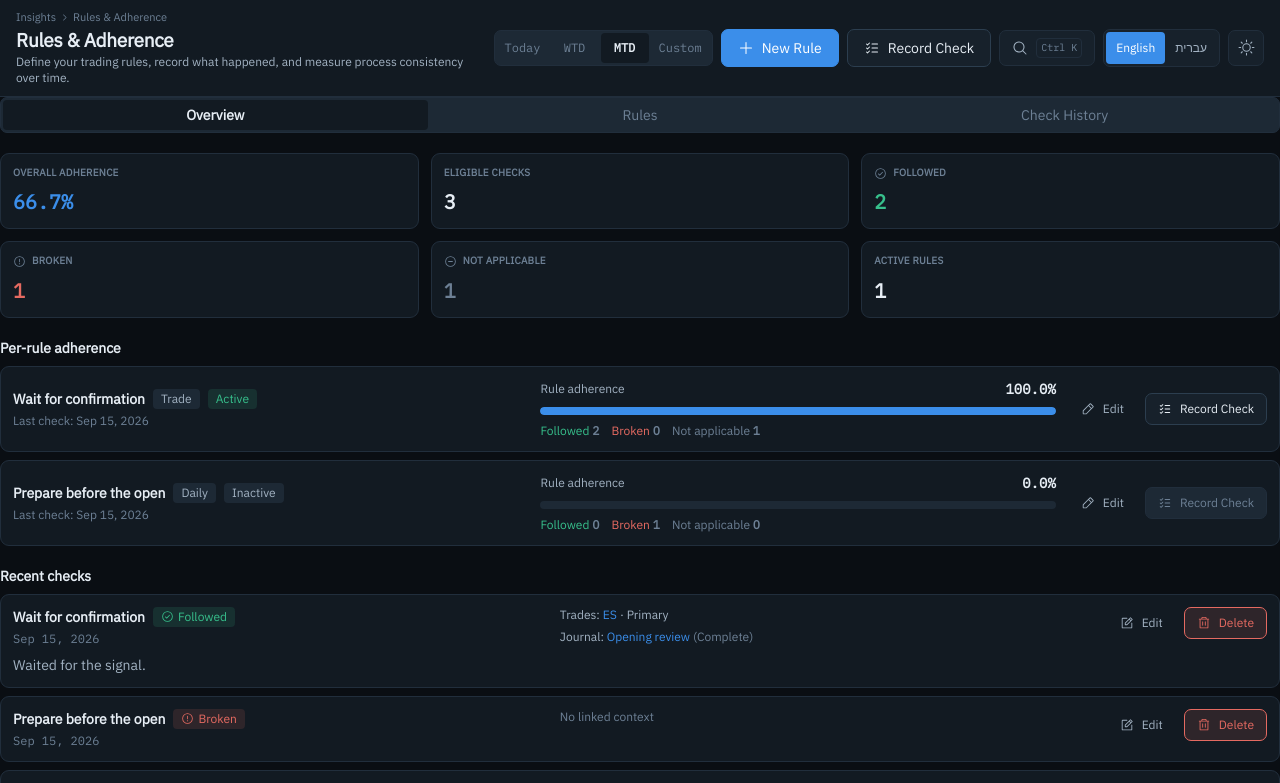
Test: Rules & Adherence page › records followed, broken, or not-applicable via accessible radios with real context IDs
The width and height of the screenshot is (1280, 783).
Step 1. Click the 1st button "Record Check" → [919, 48], box top-left (847, 29), bottom-right (991, 67)
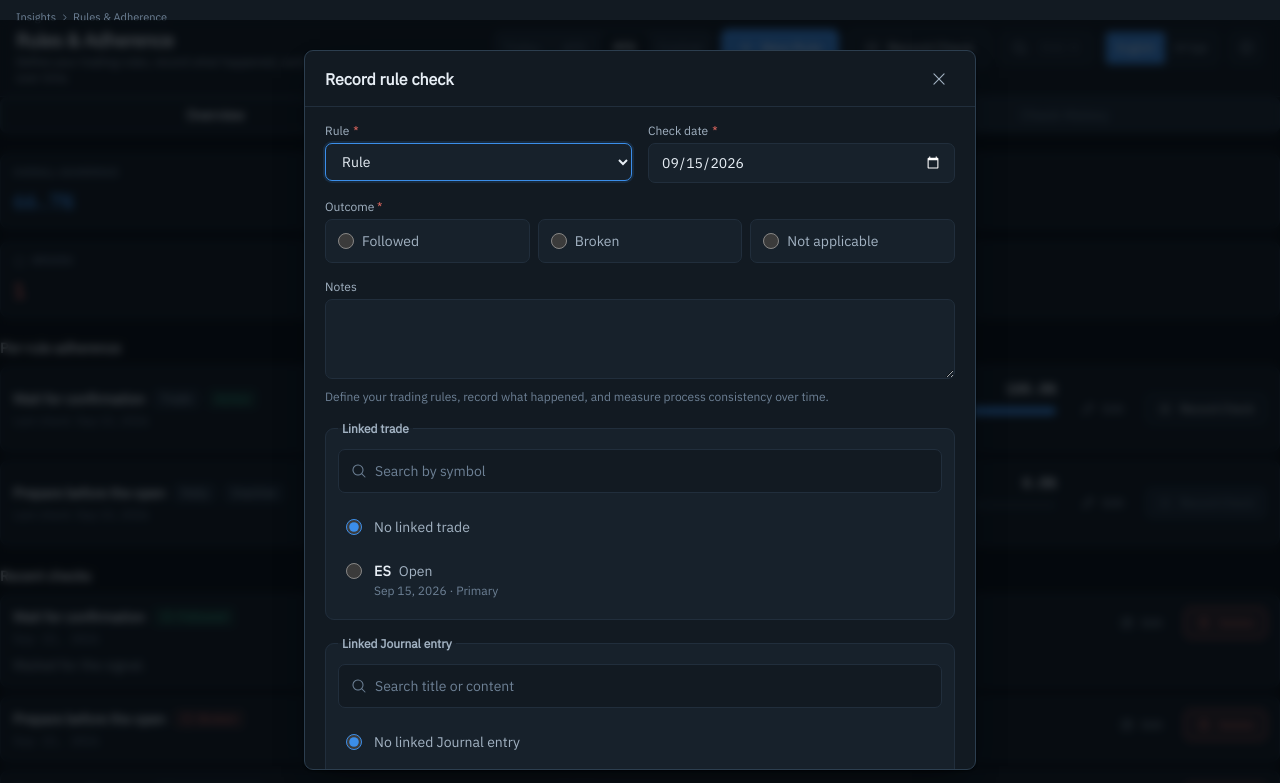
Step 2. Select "Wait for confirmation" in the dropdown labelled "Rule*" → [478, 162], box top-left (325, 143), bottom-right (632, 181)
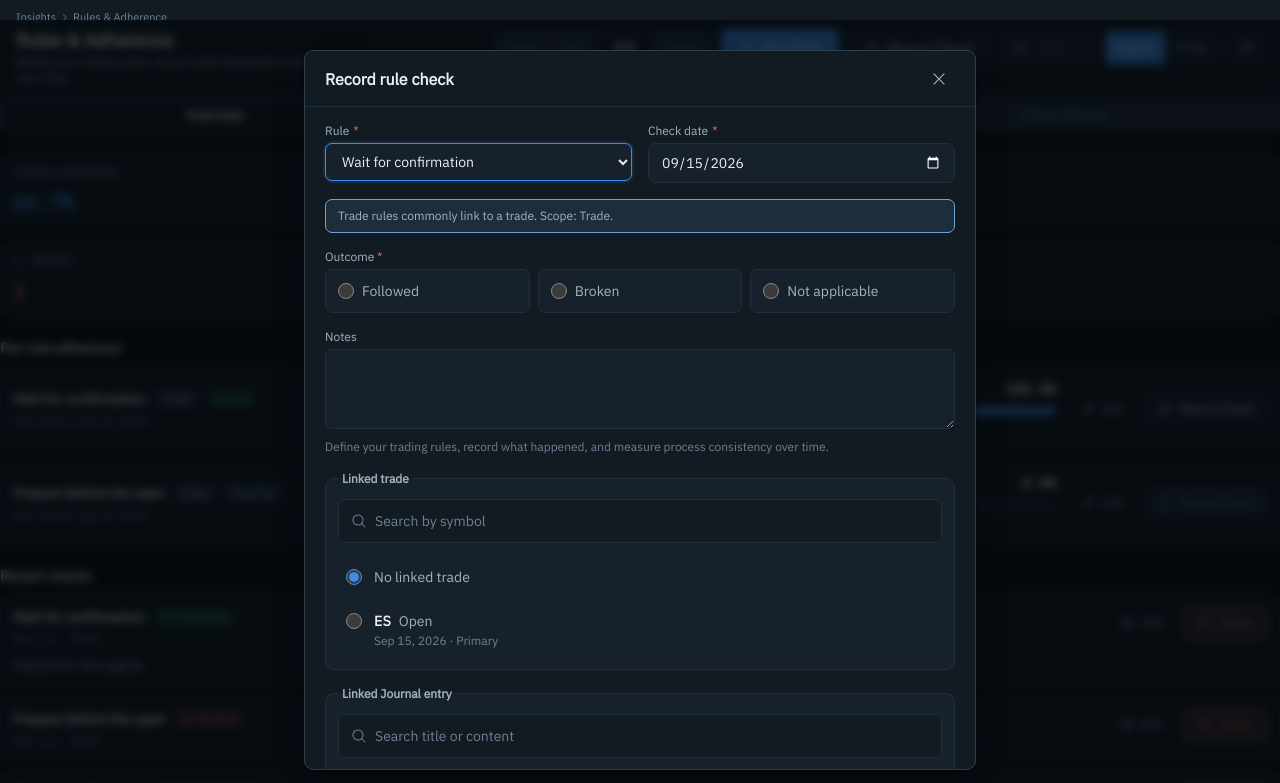
Step 3. Click the radio button labelled "Followed" → [346, 291], box top-left (338, 283), bottom-right (354, 299)
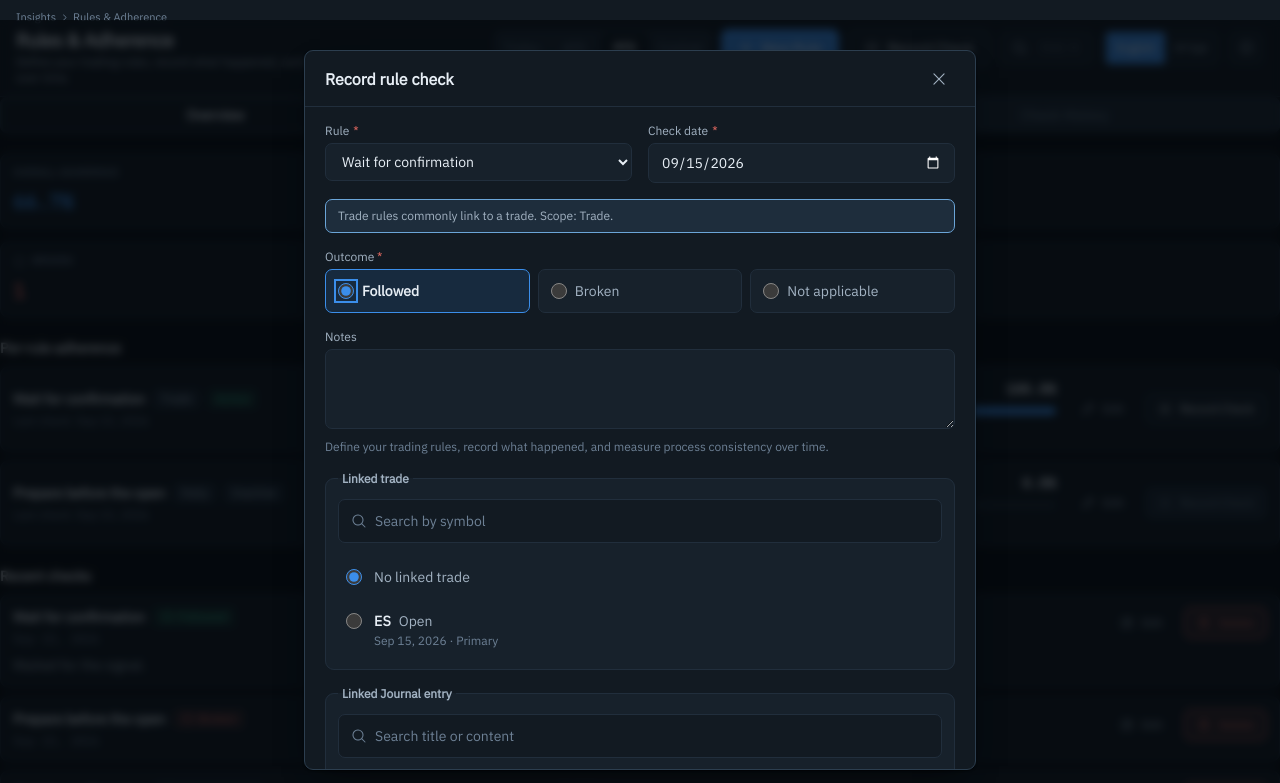
Expected: the radio button labelled "Followed" is checked, top-left (338, 283), bottom-right (354, 299)
Step 4. Click the 5th radio button → [354, 621], box top-left (346, 613), bottom-right (362, 629)
(page scrolled)
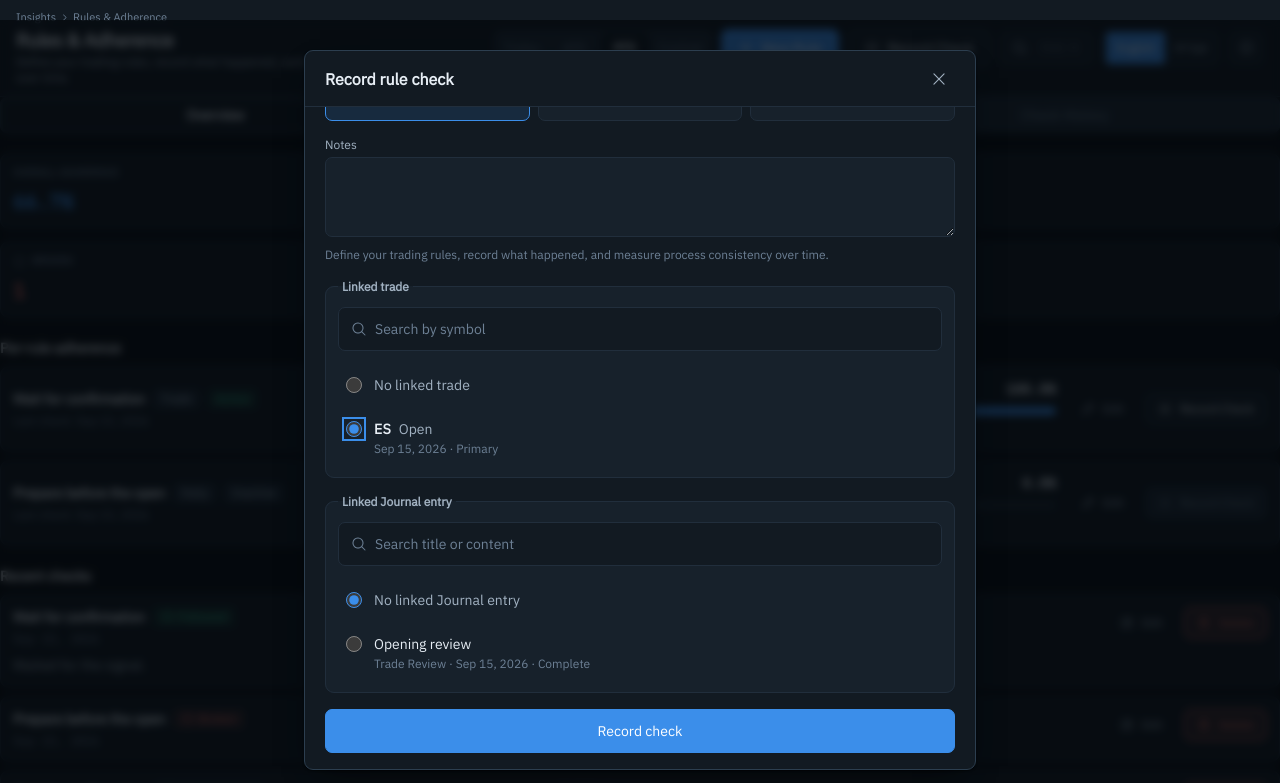
Step 5. Click the radio button labelled "Opening review Trade Review · Sep 15, 2026 · Complete" → [354, 644], box top-left (346, 636), bottom-right (362, 652)
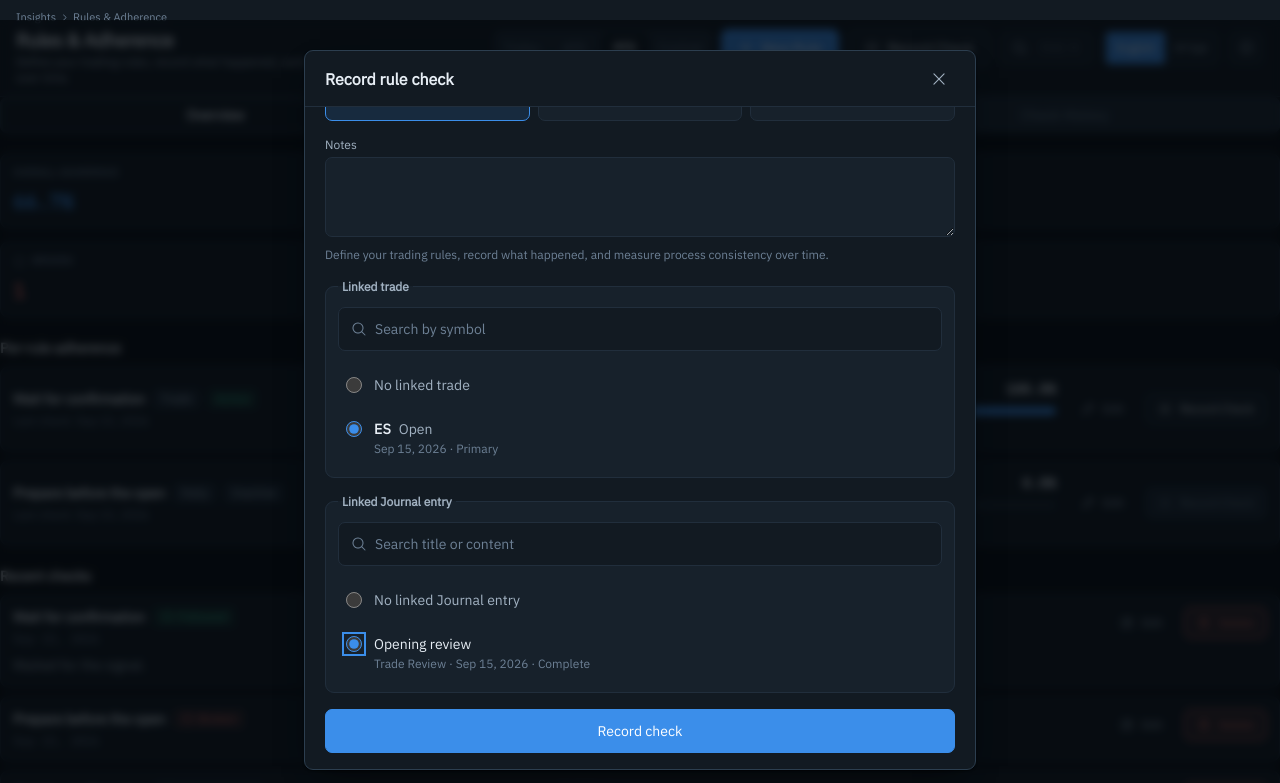
Step 6. Type "  Followed the plan  " into the text box labelled "Notes" → [640, 197], box top-left (325, 157), bottom-right (955, 237)
Step 7. Click the button "Record check" → [640, 731], box top-left (325, 709), bottom-right (955, 753)
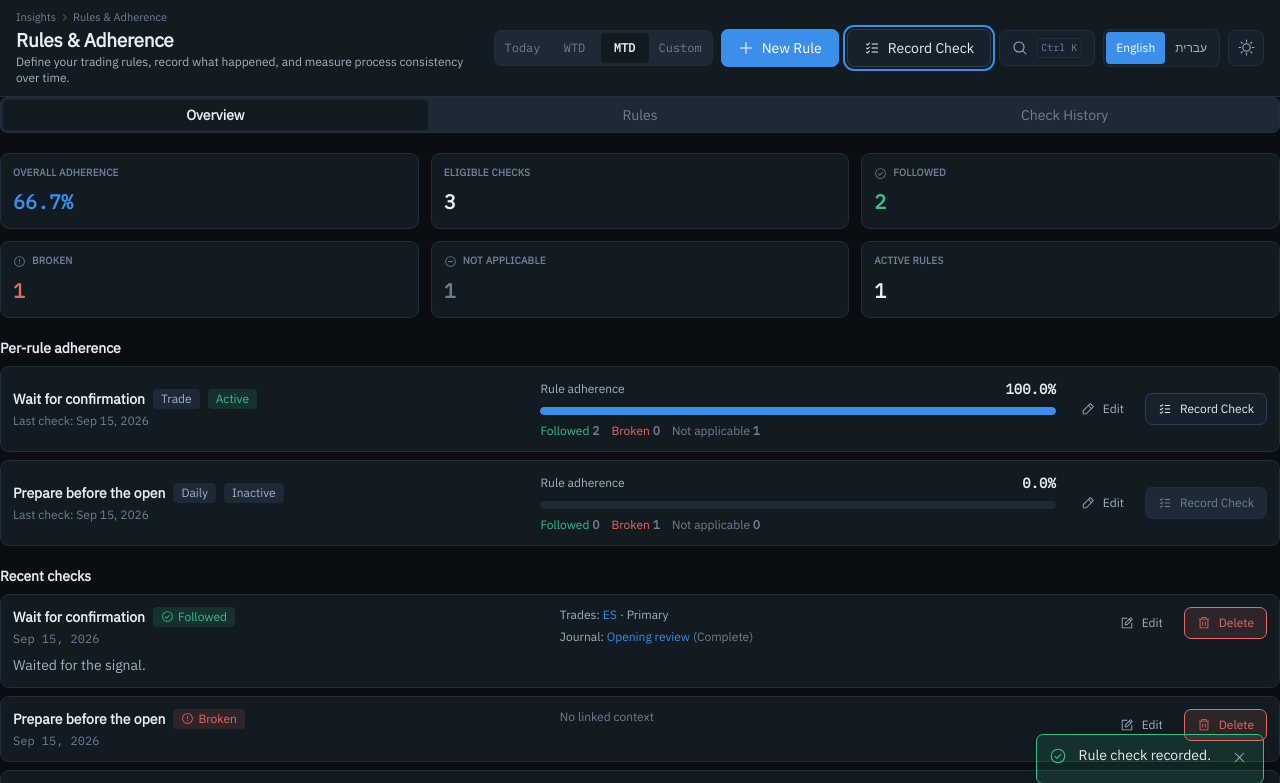
Expected: the text "Rule check recorded." is shown, top-left (1078, 745), bottom-right (1211, 765)
